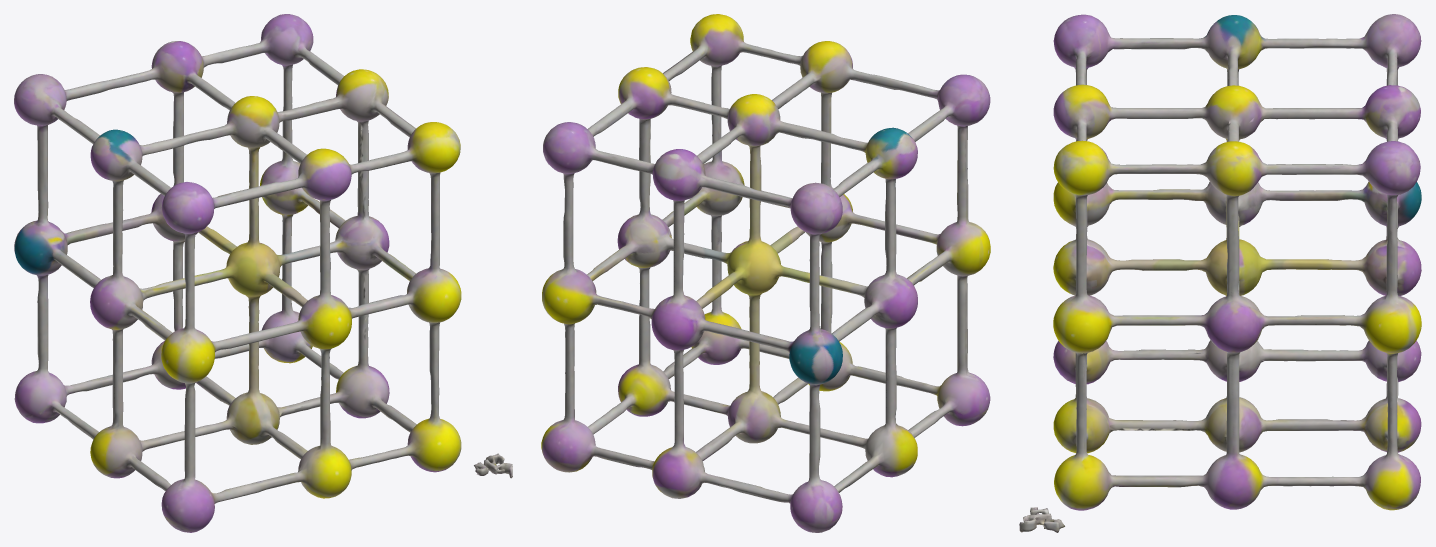
File: nacl.glb
3 renders of one model, left to right at view 1: azimuth 30°, elevation 25°; view 2: azimuth 150°, elevation 25°; view 3: azimuth 270°, elevation 25°, orthographic. The views are drawn at different scales.
Size of the model in its own units: 1.92 by 1.97 by 1.97.
Materials: 1 (1 with a texture image).
